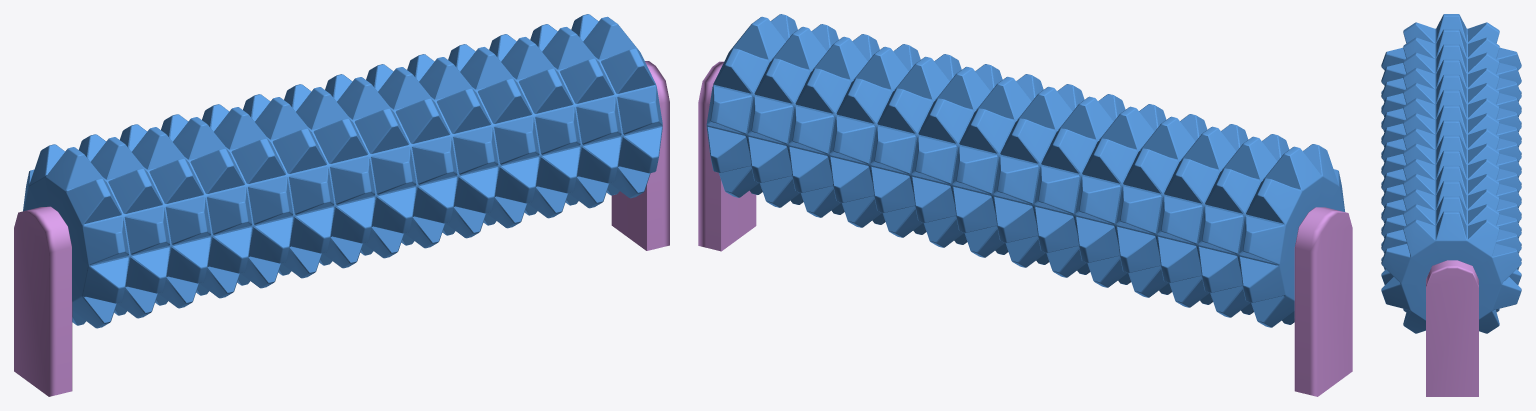
File: engel_4.fbx
3 views of the same model, side by side, from view 1: azimuth 30°, elevation 25°; view 2: azimuth 150°, elevation 25°; view 3: azimuth 270°, elevation 25° (orthographic). The views are drawn at different scales.
Visible parts, largest first — view 1: pasted__engel3, pasted__pCube2; view 2: pasted__engel3, pasted__pCube2; view 3: pasted__engel3, pasted__pCube2.
Boxes of the visible parts, x1,y1,x2,y2 form: pasted__engel3: (23, 14, 662, 328); pasted__pCube2: (14, 61, 669, 396); pasted__engel3: (706, 14, 1344, 327); pasted__pCube2: (698, 61, 1352, 396); pasted__engel3: (1381, 14, 1521, 333); pasted__pCube2: (1426, 260, 1478, 396).
Bounding box in the file's own units: 135 × 46.45 × 34.92.
